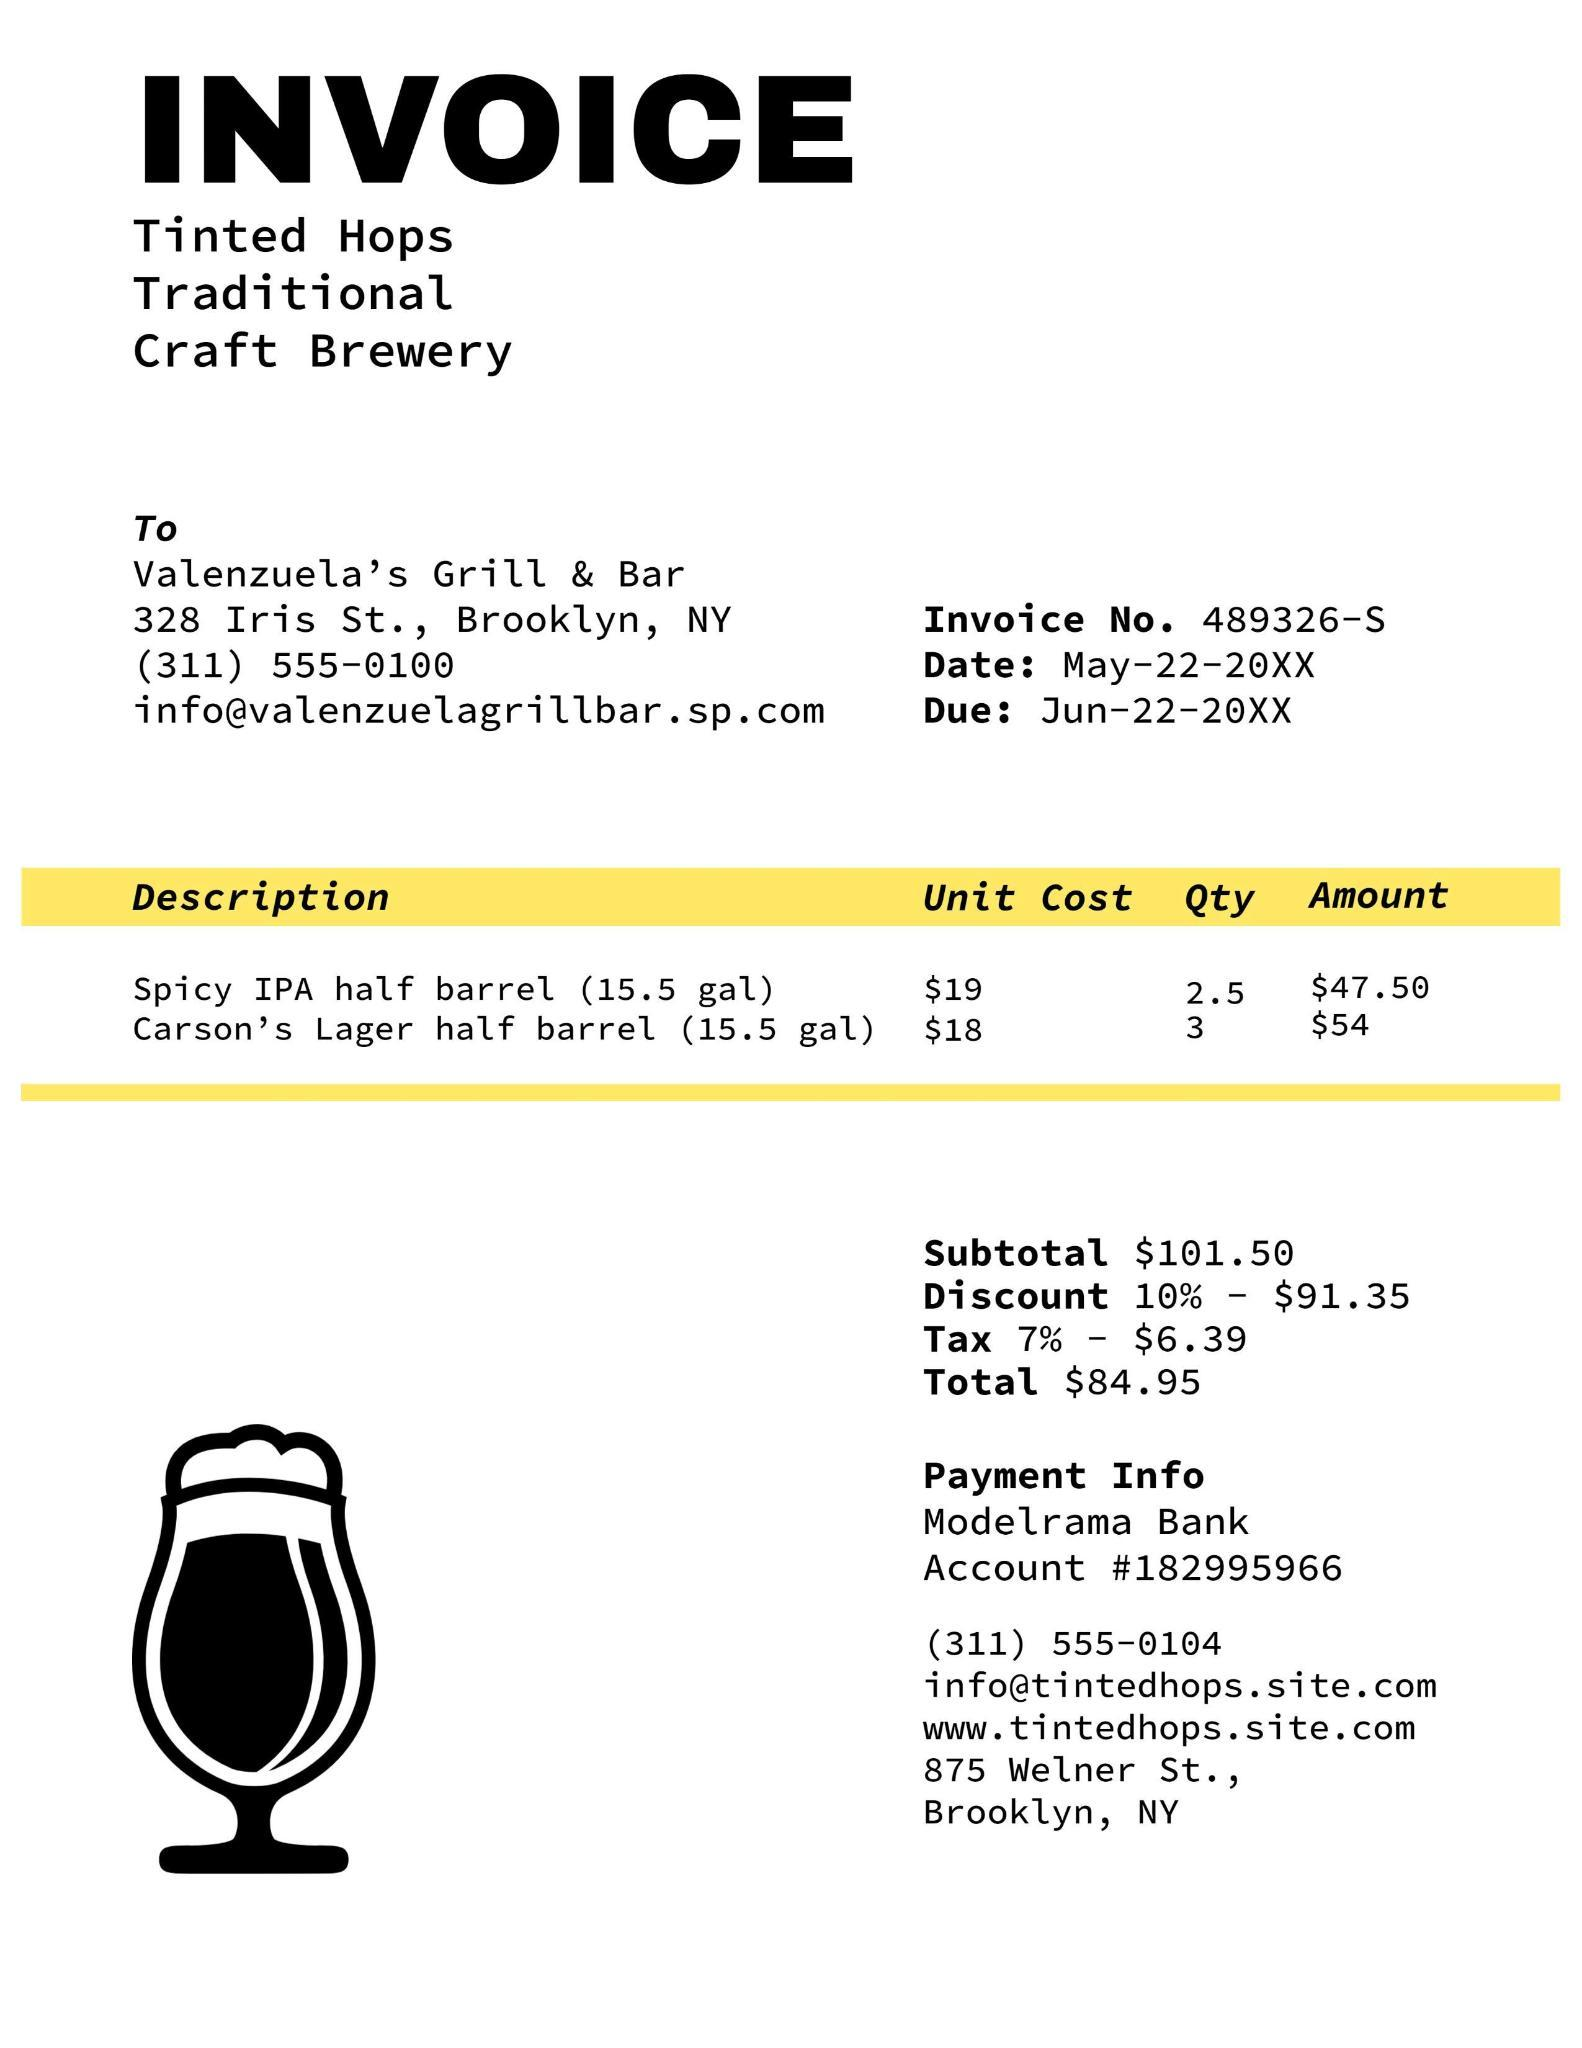ROI: (18, 835, 1545, 1115), (66, 1342, 454, 1972), (115, 472, 841, 772), (887, 1614, 1456, 1860), (876, 1179, 1436, 1407), (106, 50, 906, 189), (879, 1418, 1431, 1601), (891, 581, 1414, 757), (105, 208, 552, 380)
